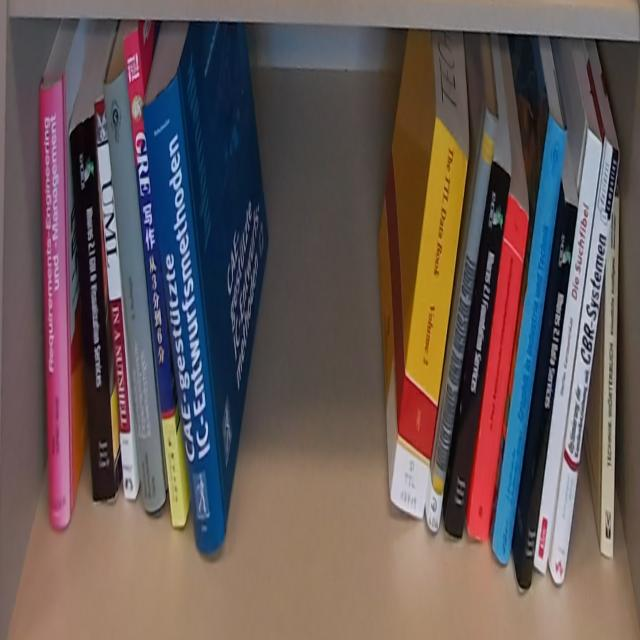Book Spine: (143, 68, 227, 554), (492, 113, 569, 565), (390, 117, 469, 521), (550, 140, 620, 584), (427, 109, 499, 535), (535, 130, 603, 578), (124, 28, 185, 527), (103, 69, 166, 513), (446, 162, 512, 540), (519, 200, 579, 592), (467, 195, 530, 543), (70, 113, 116, 503), (95, 98, 136, 500), (40, 75, 71, 529), (601, 196, 618, 556)
